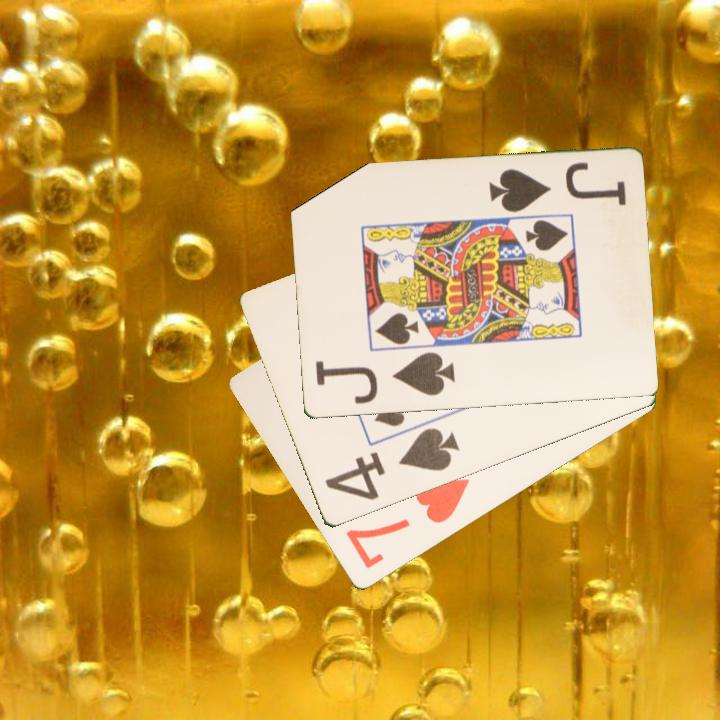4s: (321, 424, 462, 504)
7h: (342, 475, 473, 573)
Js: (311, 348, 457, 408), (485, 159, 629, 216)
